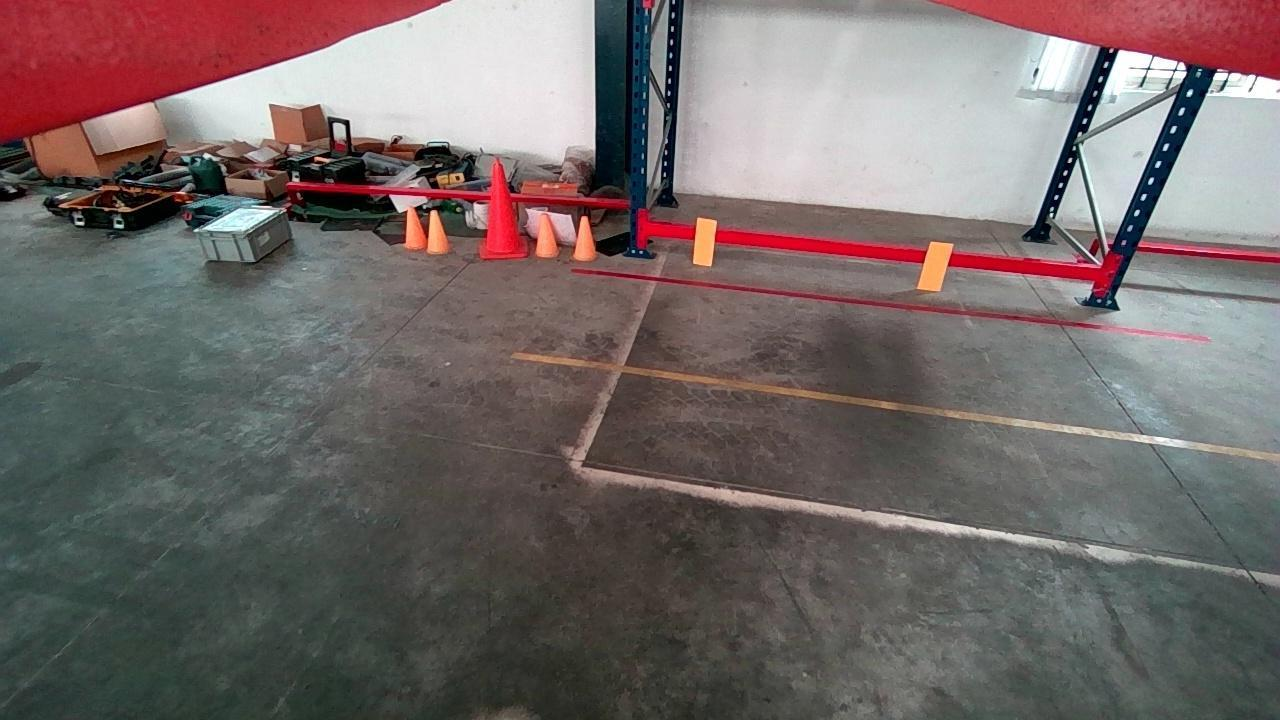h_rack: (647, 221, 1106, 282)
orange_strip: (916, 241, 952, 292), (694, 218, 714, 266)
red_line: (571, 264, 1213, 342)
yellow_line: (512, 350, 1280, 462)
